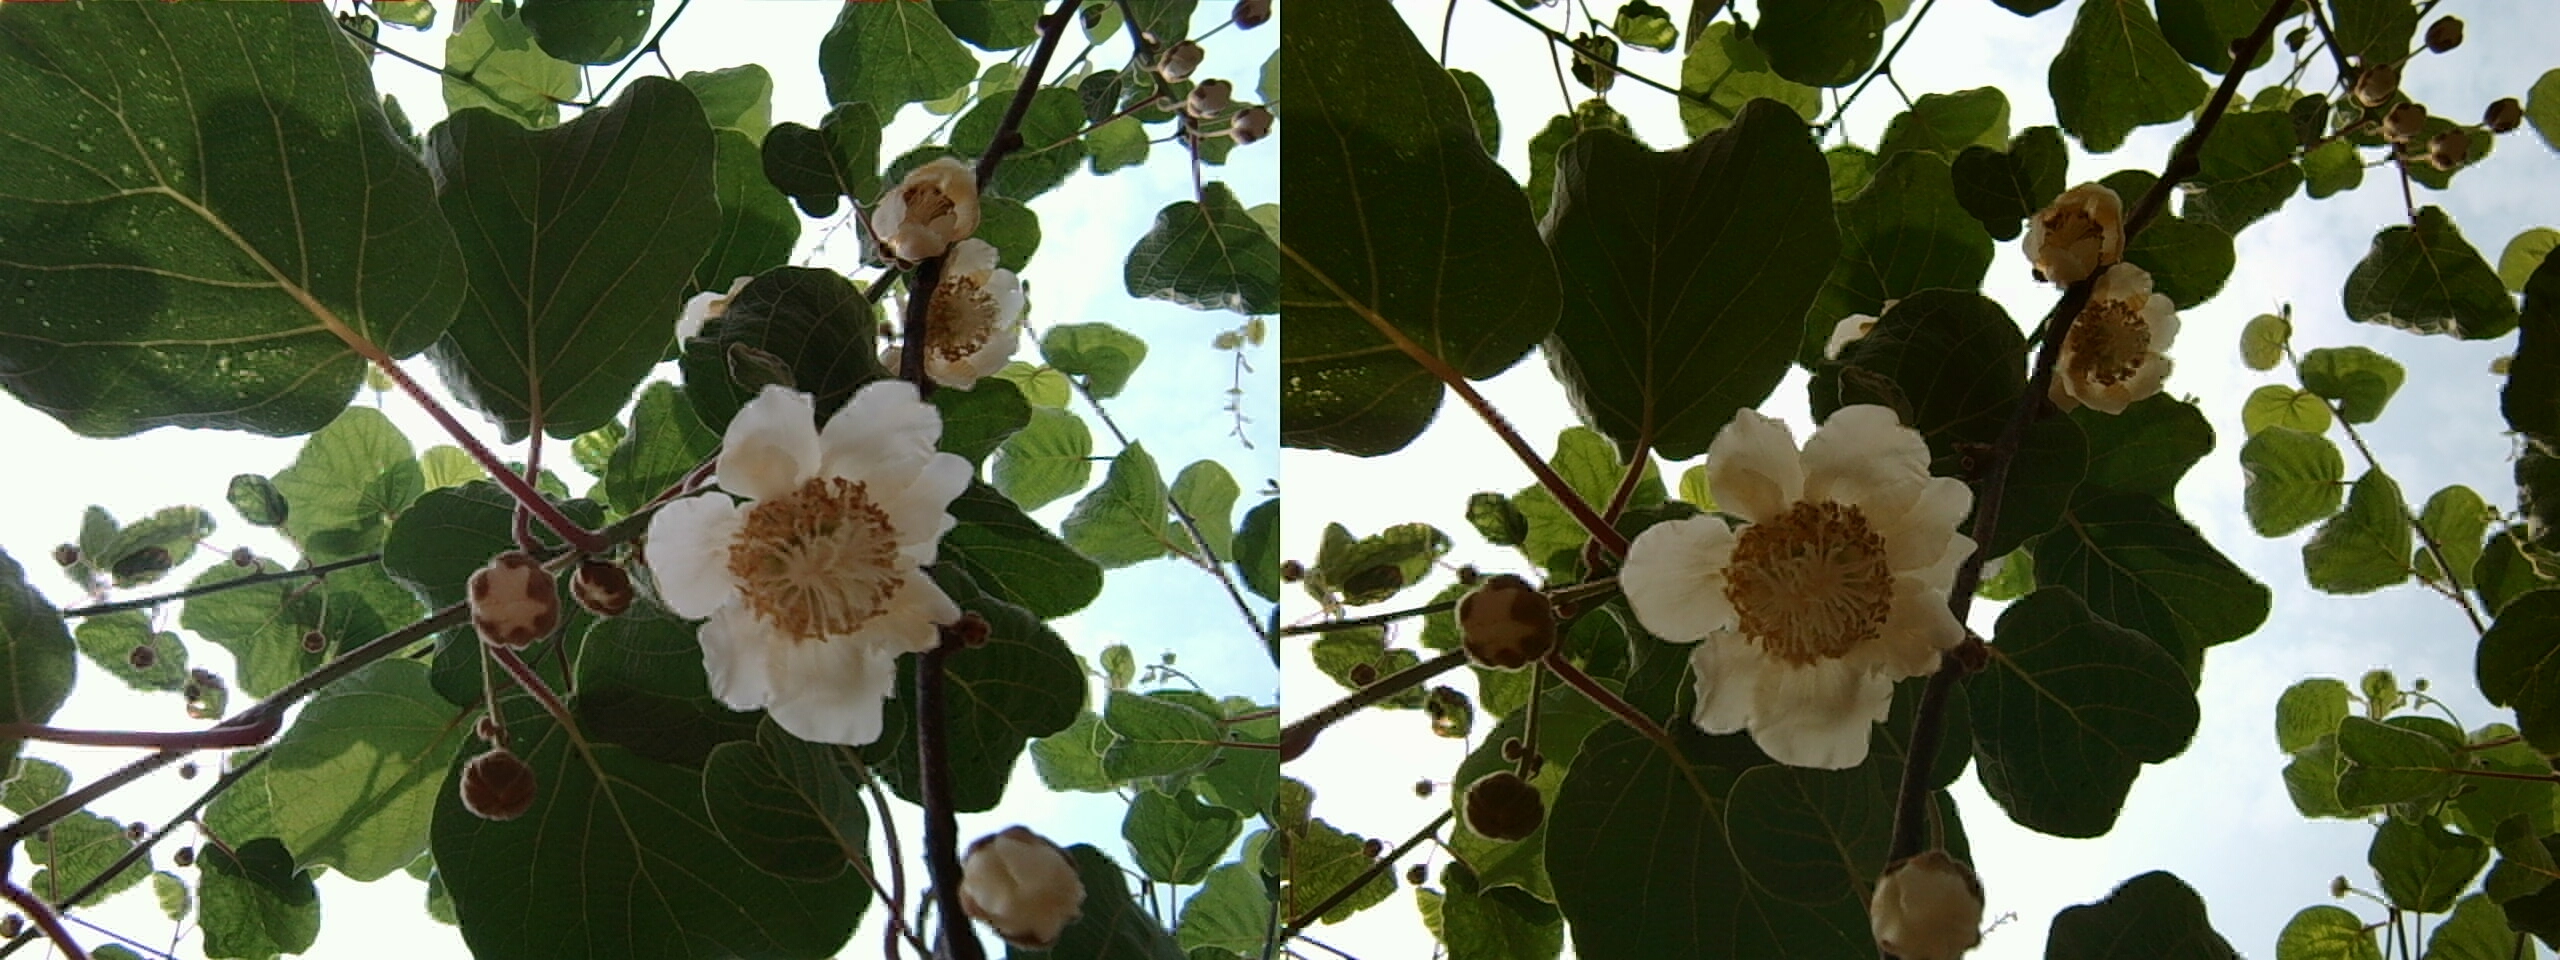flower: (1647, 413, 1972, 762), (651, 395, 965, 731), (2042, 260, 2180, 407), (908, 237, 1029, 379), (864, 149, 983, 263)
